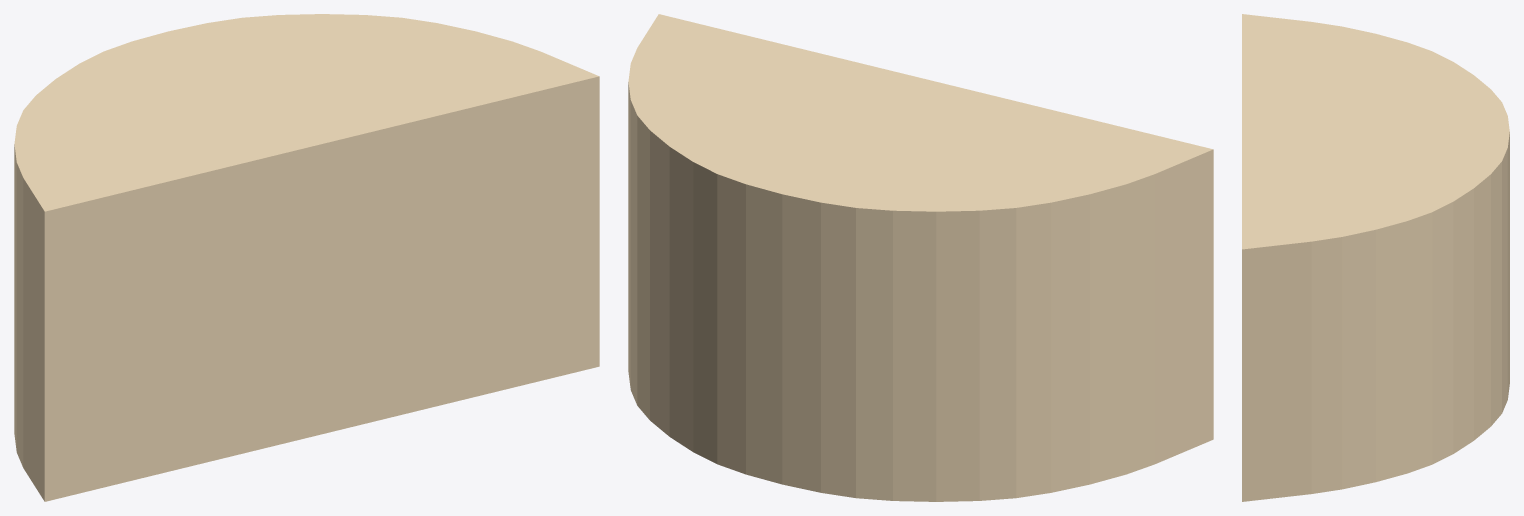
File: toys_wood block_half circle.fbx
3 renders of one model, left to right at view 1: azimuth 30°, elevation 25°; view 2: azimuth 150°, elevation 25°; view 3: azimuth 270°, elevation 25°, orthographic. The views are drawn at different scales.
Parts seen in each view (by area): view 1: Cylinder; view 2: Cylinder; view 3: Cylinder.
Part boxes in pixels (x1,y1,x2,y2): Cylinder: (14,14,599,501); Cylinder: (628,14,1213,501); Cylinder: (1242,14,1509,501).
Size of the model in its own units: 200 by 100 by 96.08.
